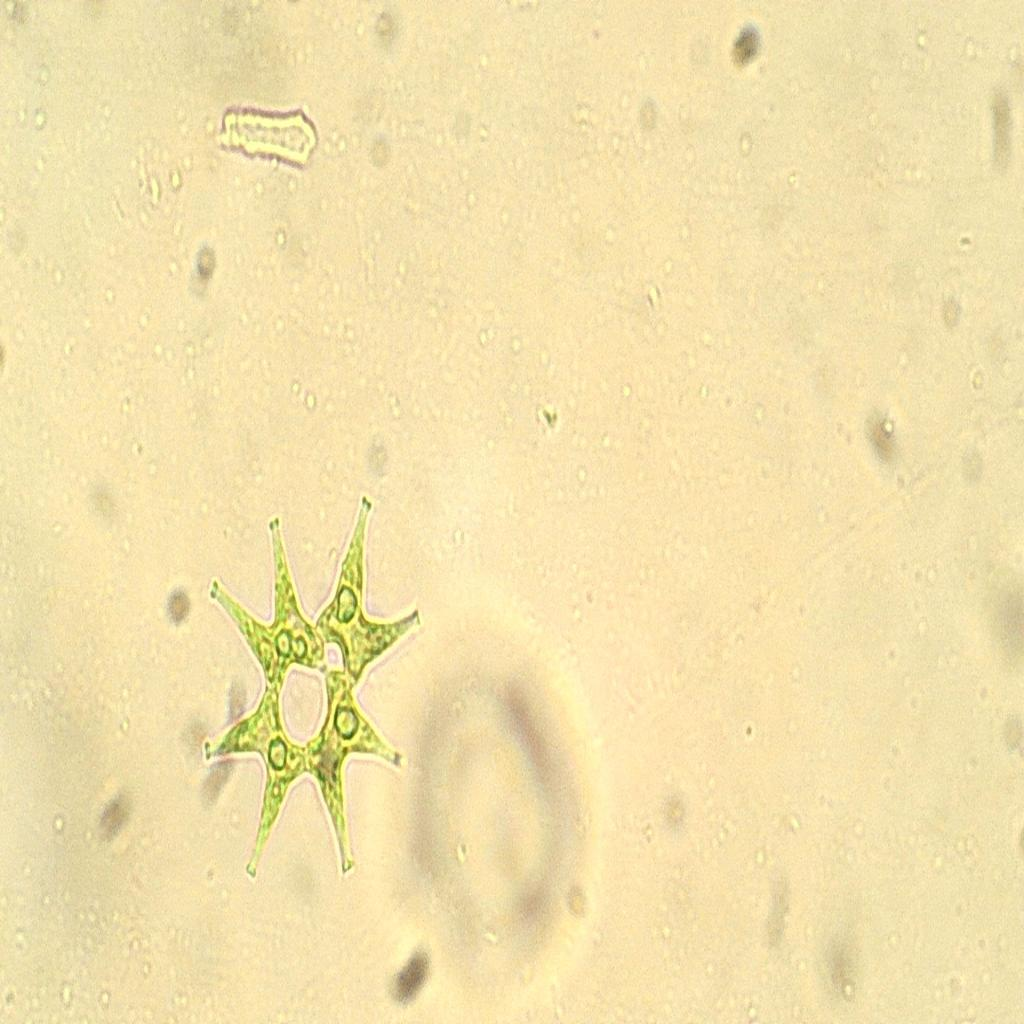Pediastrum_75FO: (190, 472, 428, 901)
